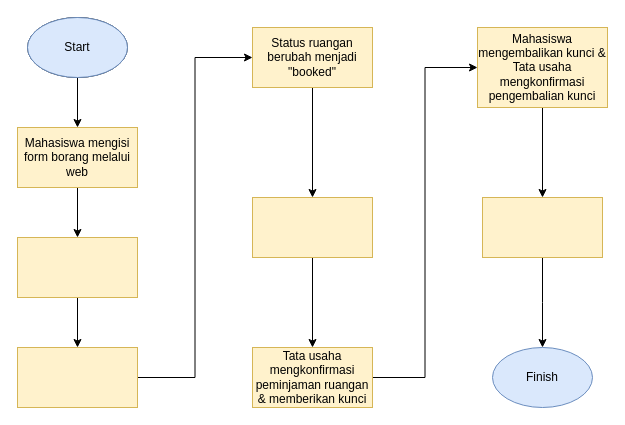
Image size: 625x425. Some labels were removed from this diagram. Here are the shapes that lost their labels. From the top down, the centre of each, then its label:
pixel 312 227: Mahasiswa meminjam kunci ruangan ke Tata usaha
pixel 542 227: Status ruangan kembali menjadi "available"
pixel 77 267: Dosen yang bertanggungg jawab melakukan approval
pixel 77 377: Tata usaha melakukan approval
